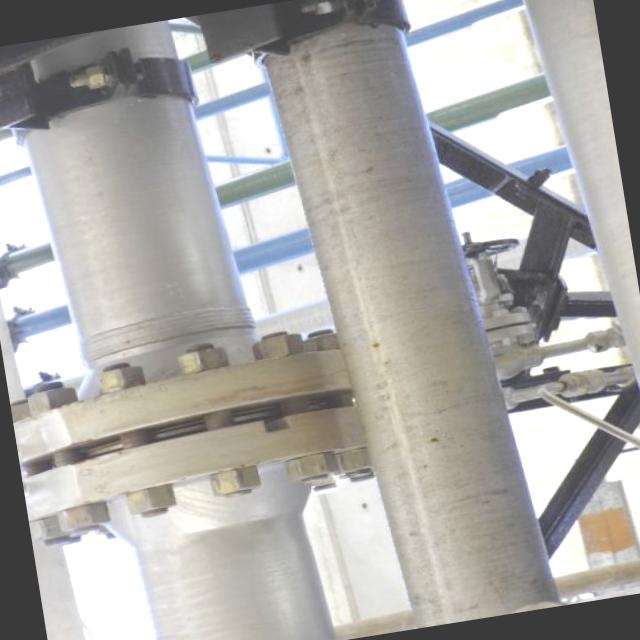gas: (2, 7, 349, 640), (263, 0, 574, 637)
